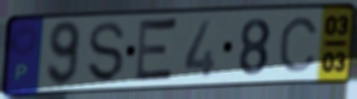4: (182, 17, 218, 79)
8: (238, 16, 272, 77)
9: (44, 18, 82, 90)
C: (276, 15, 320, 74)
E: (132, 16, 180, 85)
S: (86, 20, 127, 85)
